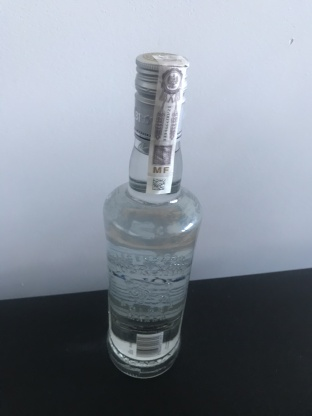nakretka: (130, 46, 192, 145)
